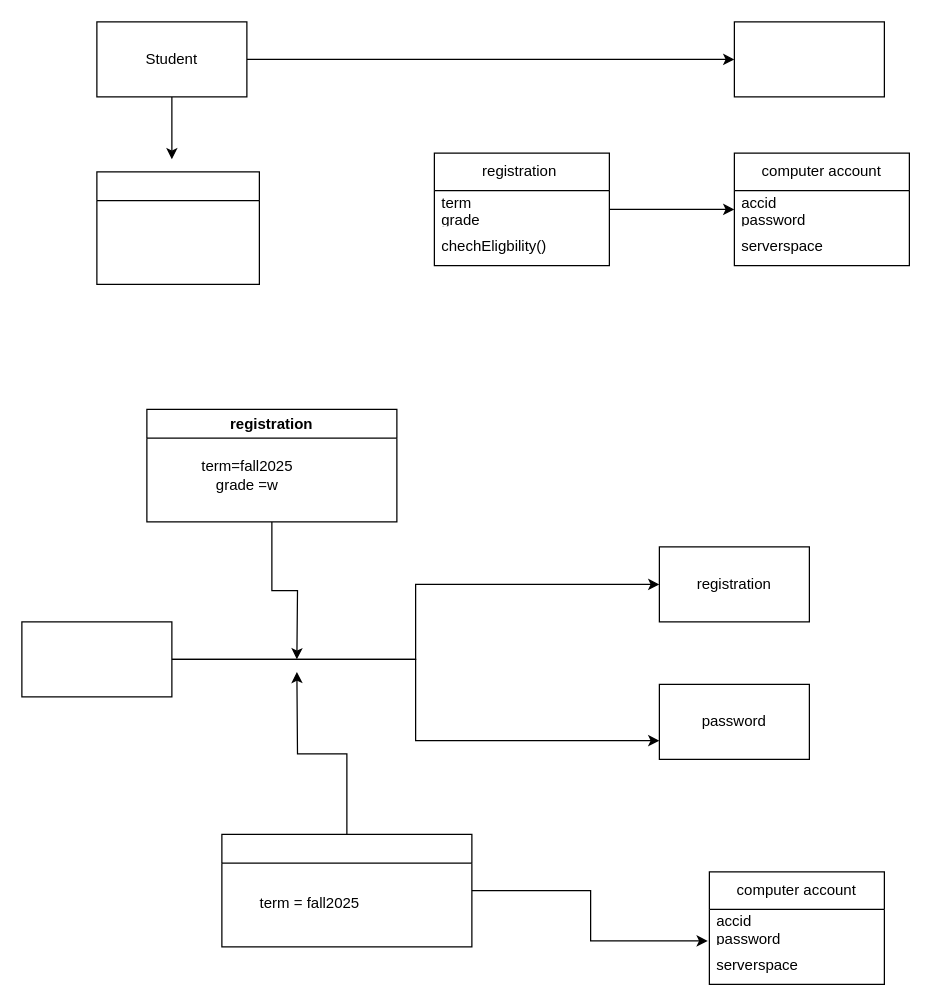
The diagram is 931 pixels wide and 1006 high, and some of its shapes have lost their labels. Each missing label, with the box of its shape:
begingDate numberOfHrs: (96, 171, 259, 284)
course: (733, 21, 884, 97)
mary jones: (21, 621, 172, 697)
Vertical Container: (221, 833, 472, 947)
